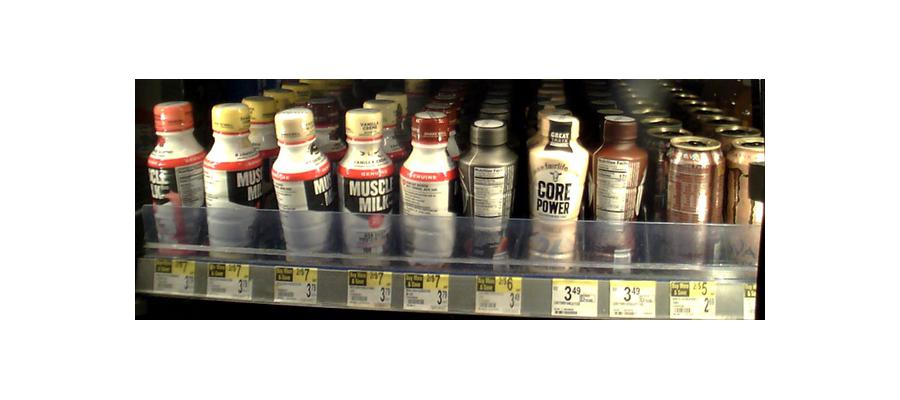bottle: (205, 106, 272, 252), (526, 114, 591, 264), (272, 115, 336, 260), (400, 107, 456, 265), (459, 120, 518, 267), (592, 114, 648, 265), (337, 112, 394, 260), (660, 130, 722, 266), (149, 101, 203, 250)
